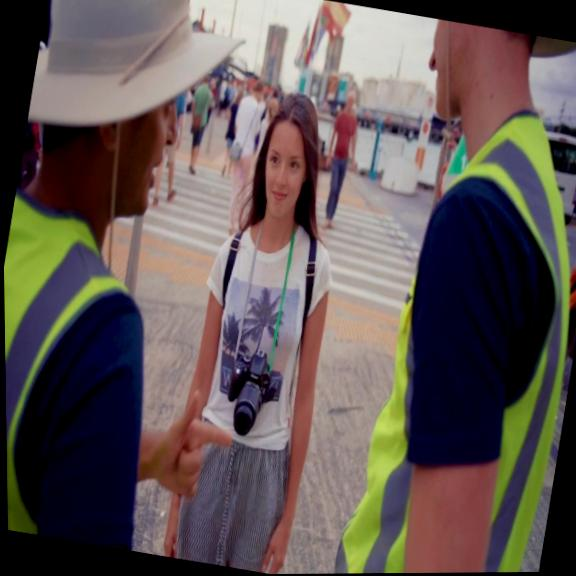safety_vest: (320, 85, 576, 574), (3, 178, 151, 544)
